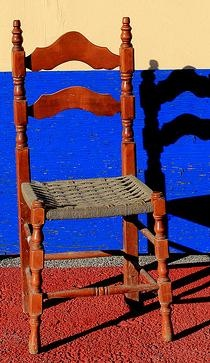obstacle: (12, 17, 172, 353)
